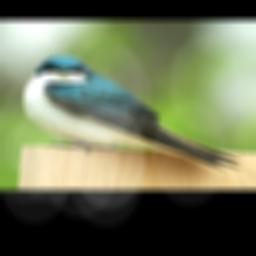Swallow: (20, 55, 245, 170)
